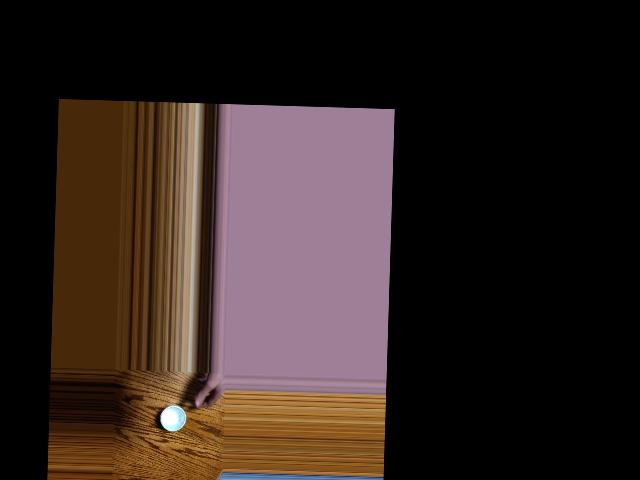cotage: (161, 401, 188, 431)
